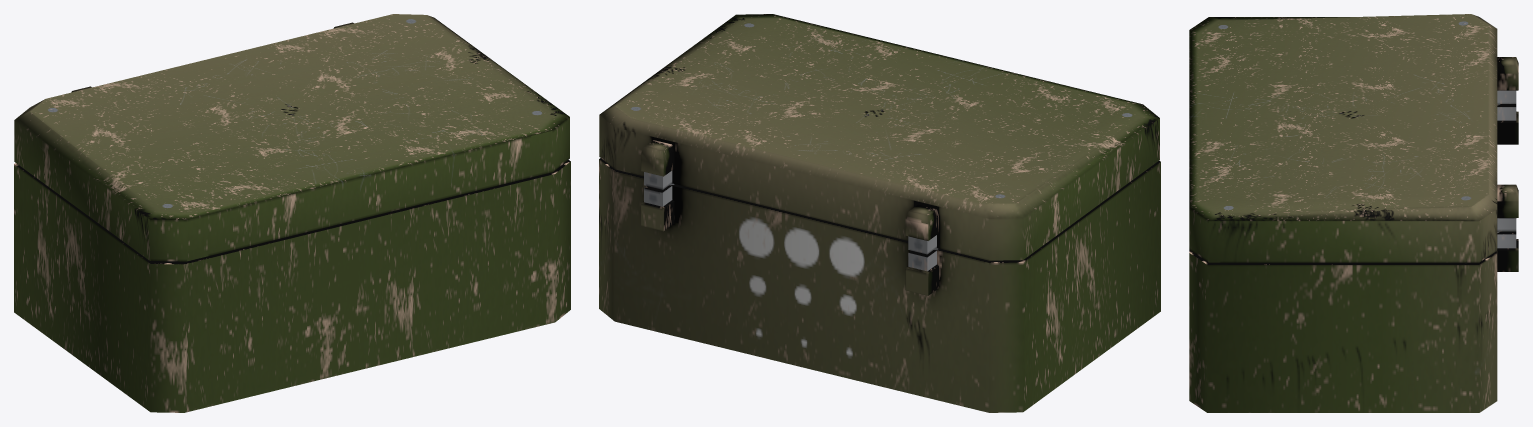
Rendered from ammo_box.glb.
3 renders of one model, left to right at view 1: azimuth 30°, elevation 25°; view 2: azimuth 150°, elevation 25°; view 3: azimuth 270°, elevation 25°, orthographic.
Visible parts, largest first — view 1: Cube.002; view 2: Cube.002; view 3: Cube.002.
Boxes of the visible parts, x1,y1,x2,y2 form: Cube.002: (14, 14, 570, 412); Cube.002: (599, 14, 1160, 412); Cube.002: (1189, 14, 1518, 412).
Size of the model in its own units: 3.62 by 1.66 by 2.46.
Materials: 1 (1 with a texture image).
